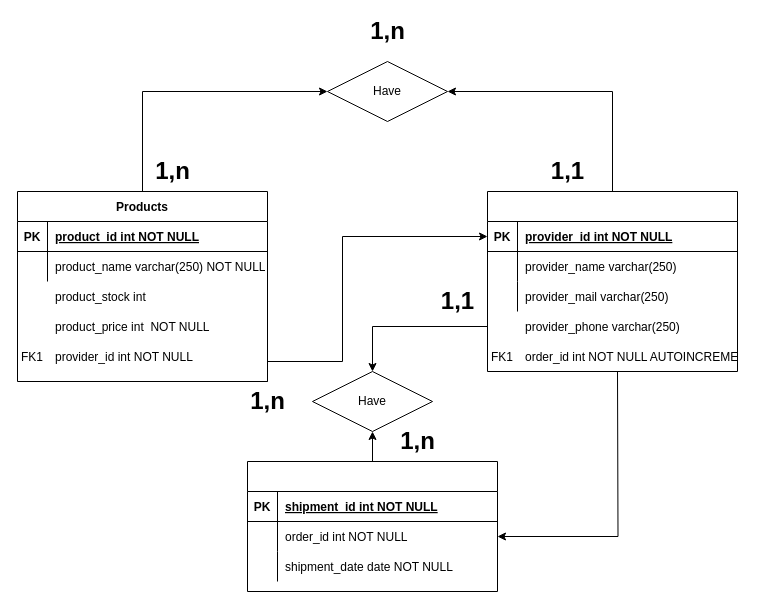
Image size: 771x609. Some labels were removed from this diagram. Here are the shapes that lost their labels. From the top down, the box of each, then its label:
(486, 190, 738, 372): Providers
(246, 460, 498, 592): Shipments
